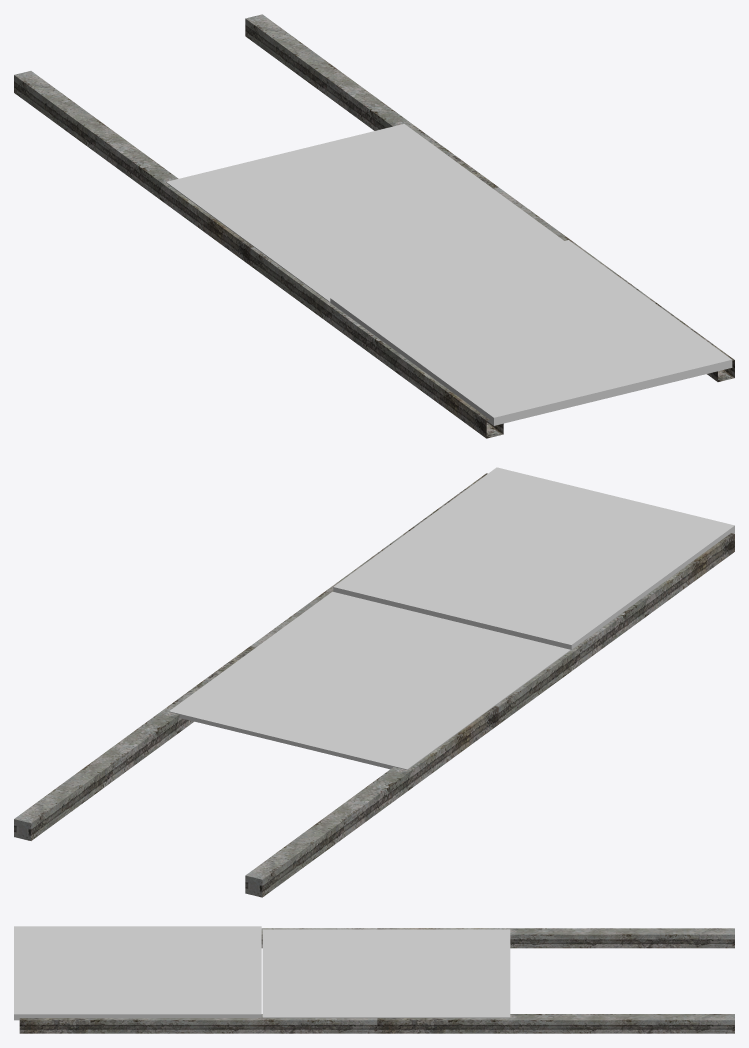
Rendered from Plate1.FBX.
3 renders of one model, top to bottom at view 1: azimuth 30°, elevation 25°; view 2: azimuth 150°, elevation 25°; view 3: azimuth 270°, elevation 25°, orthographic. The views are drawn at different scales.
Visible parts, largest first — view 1: Box001, Box003, polySurface005, polySurface004, polySurface006, Box002, polySurface3; view 2: Box001, Box003, polySurface005, polySurface004, polySurface006, polySurface3; view 3: Box001, Box003, polySurface004, polySurface3, polySurface005, polySurface006, Box002.
Boxes of the visible parts, bbox=[...] form: Box001: bbox=[330, 240, 732, 421]; Box003: bbox=[166, 124, 563, 302]; polySurface005: bbox=[14, 71, 253, 265]; polySurface004: bbox=[245, 14, 498, 188]; polySurface006: bbox=[250, 247, 503, 438]; Box002: bbox=[330, 302, 732, 425]; polySurface3: bbox=[493, 187, 734, 381]; Box001: bbox=[333, 467, 734, 648]; Box003: bbox=[169, 591, 570, 769]; polySurface005: bbox=[245, 706, 498, 897]; polySurface004: bbox=[14, 646, 255, 840]; polySurface006: bbox=[495, 533, 734, 724]; polySurface3: bbox=[250, 473, 487, 647]; Box001: bbox=[14, 926, 261, 1017]; Box003: bbox=[262, 929, 510, 1017]; polySurface004: bbox=[377, 1014, 734, 1033]; polySurface3: bbox=[19, 1014, 377, 1033]; polySurface005: bbox=[377, 928, 734, 948]; polySurface006: bbox=[261, 928, 377, 948]; Box002: bbox=[14, 1017, 261, 1020].
Bounding box in the file's own units: 1637 × 143 × 5436.
